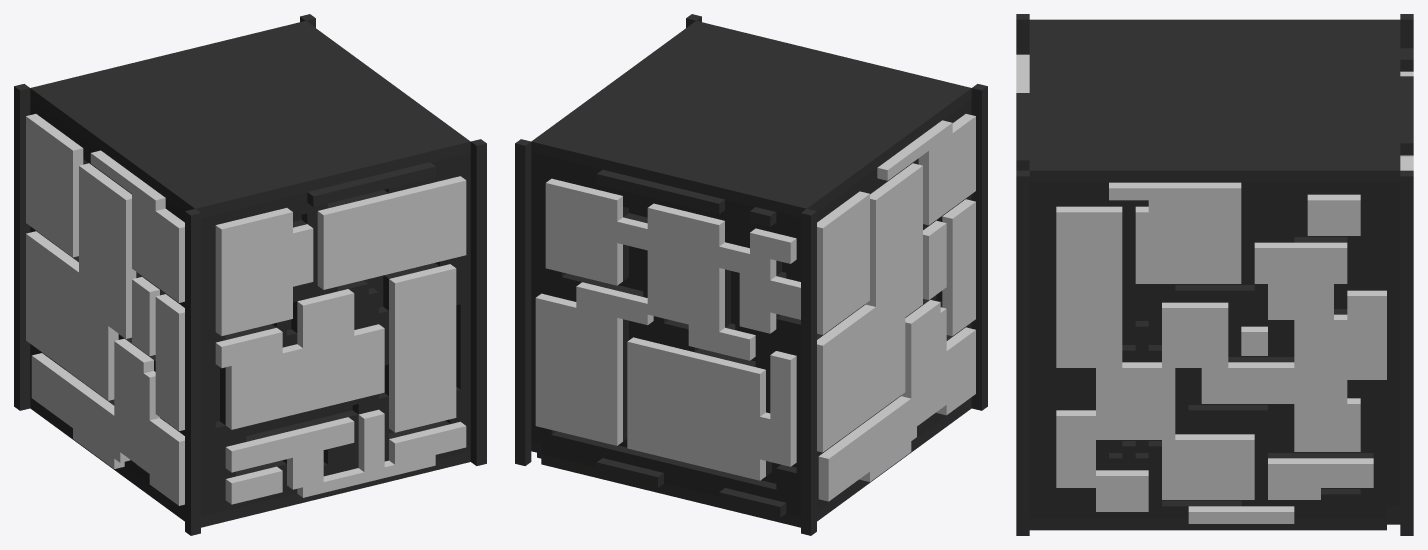
File: IronOre.obj
The picture shows the model from 3 angles, left to right: view 1: azimuth 30°, elevation 25°; view 2: azimuth 150°, elevation 25°; view 3: azimuth 270°, elevation 25°; orthographic projection. The views are drawn at different scales.
Parts seen in each view (by area): view 1: IronOre; view 2: IronOre; view 3: IronOre.
Part boxes in pixels (x1,y1,x2,y2): IronOre: [14, 14, 486, 535]; IronOre: [515, 14, 987, 535]; IronOre: [1016, 14, 1413, 535].
Size of the model in its own units: 29 by 30 by 30.
Materials: 1 (1 with a texture image).
